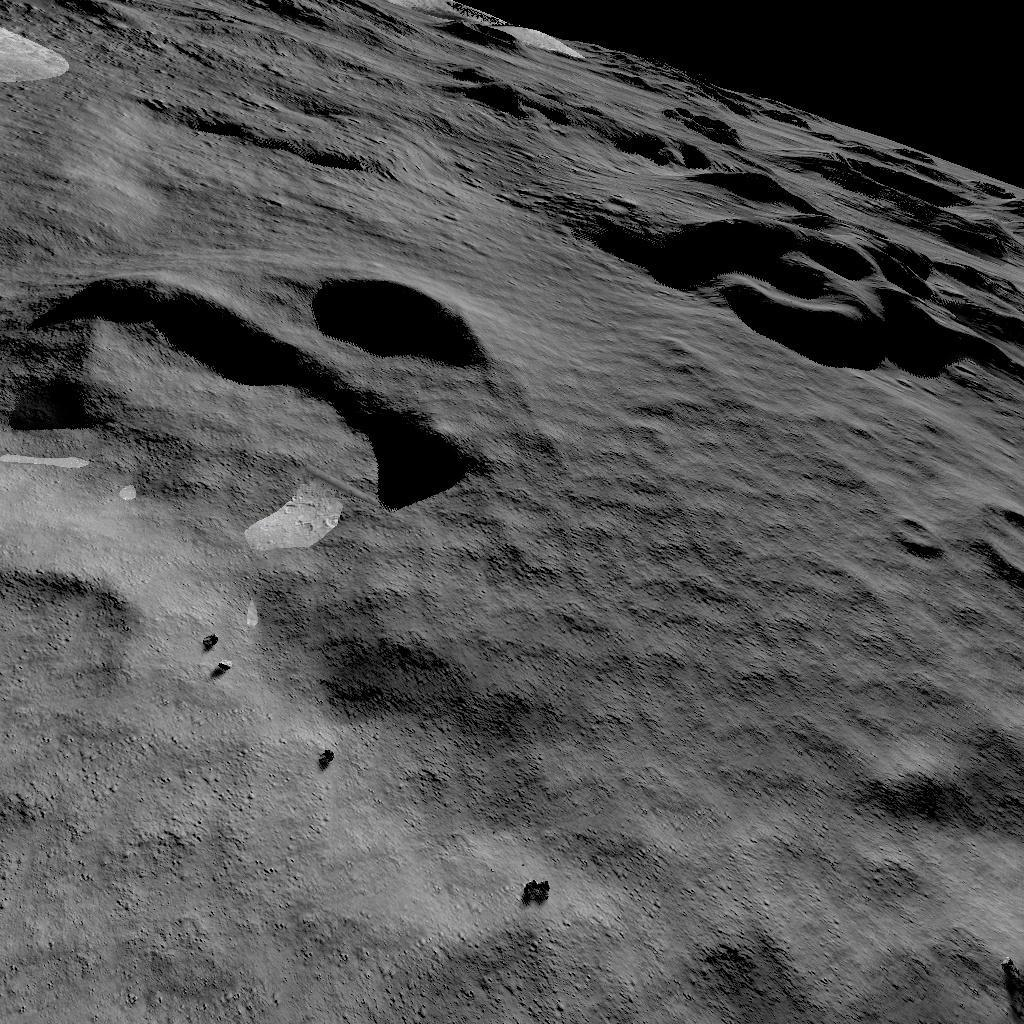Boulders: (0, 36, 111, 134)
Crater: (553, 102, 1024, 408), (0, 274, 523, 542), (0, 578, 154, 822), (869, 496, 1024, 600)
Plan surface: (553, 436, 850, 882), (0, 836, 488, 1024), (571, 892, 1024, 1024)
